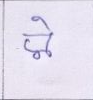o_matra: (41, 15, 56, 57)
